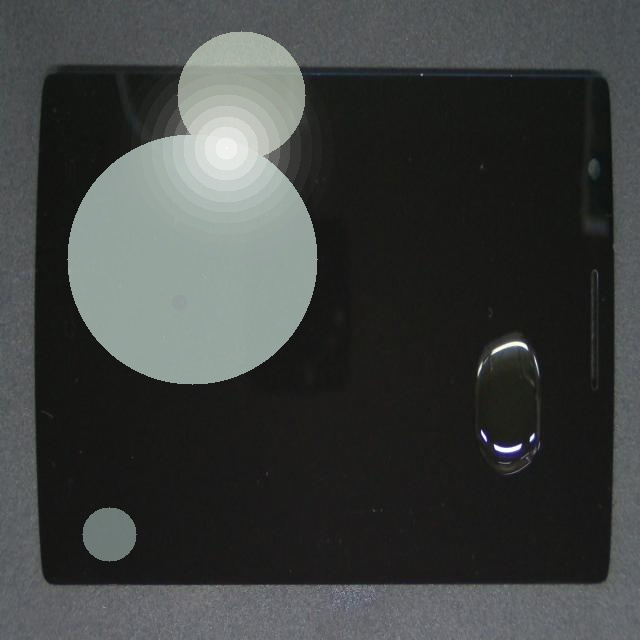oil: (291, 176, 640, 508)
